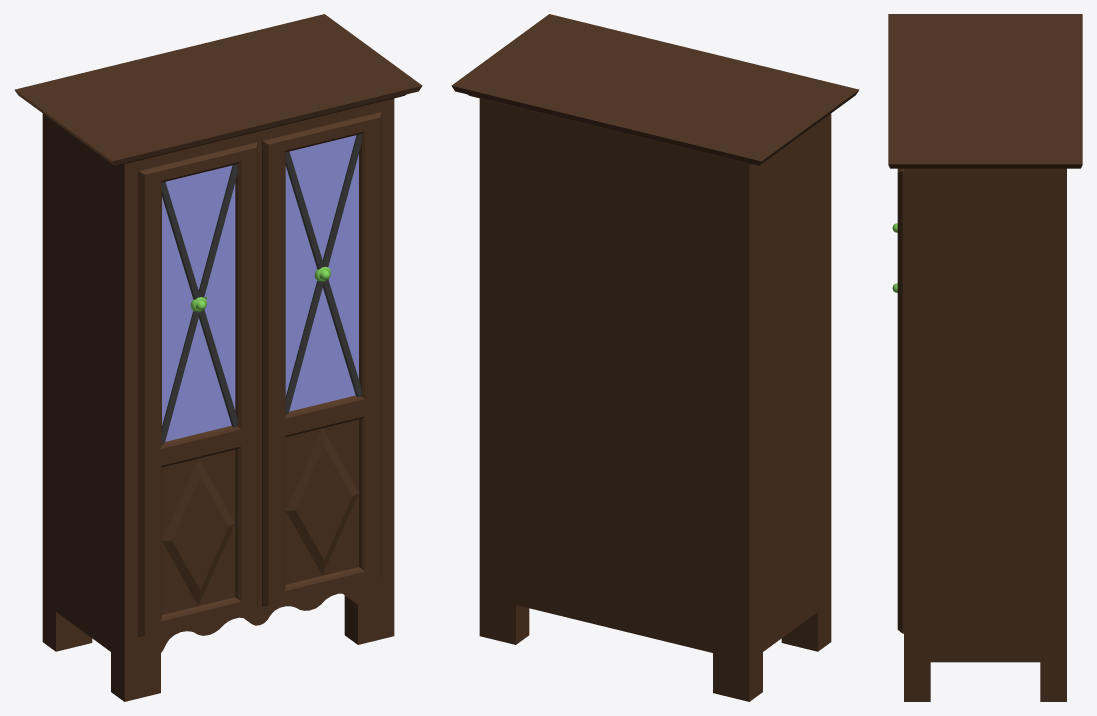
File: Armario.fbx
The picture shows the model from 3 angles, left to right: view 1: azimuth 30°, elevation 25°; view 2: azimuth 150°, elevation 25°; view 3: azimuth 270°, elevation 25°; orthographic projection.
Parts seen in each view (by area): view 1: Armario, PortaArmario.001, PortaArmario; view 2: Armario; view 3: Armario, PortaArmario.001.
Boxes of the visible parts, x1,y1,x2,y2 form: Armario: (14,14,422,701); PortaArmario.001: (262,112,381,606); PortaArmario: (138,142,257,636); Armario: (451,14,859,701); Armario: (888,14,1082,701); PortaArmario.001: (892,168,903,633).
Bounding box in the file's own units: 131 × 223 × 71.83.
